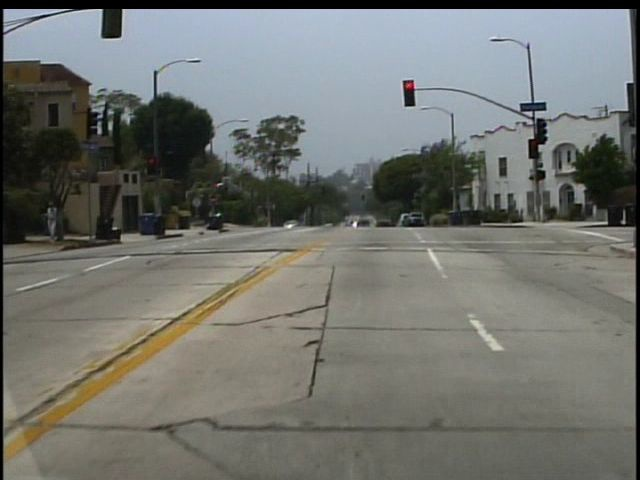person: (49, 199, 63, 242)
